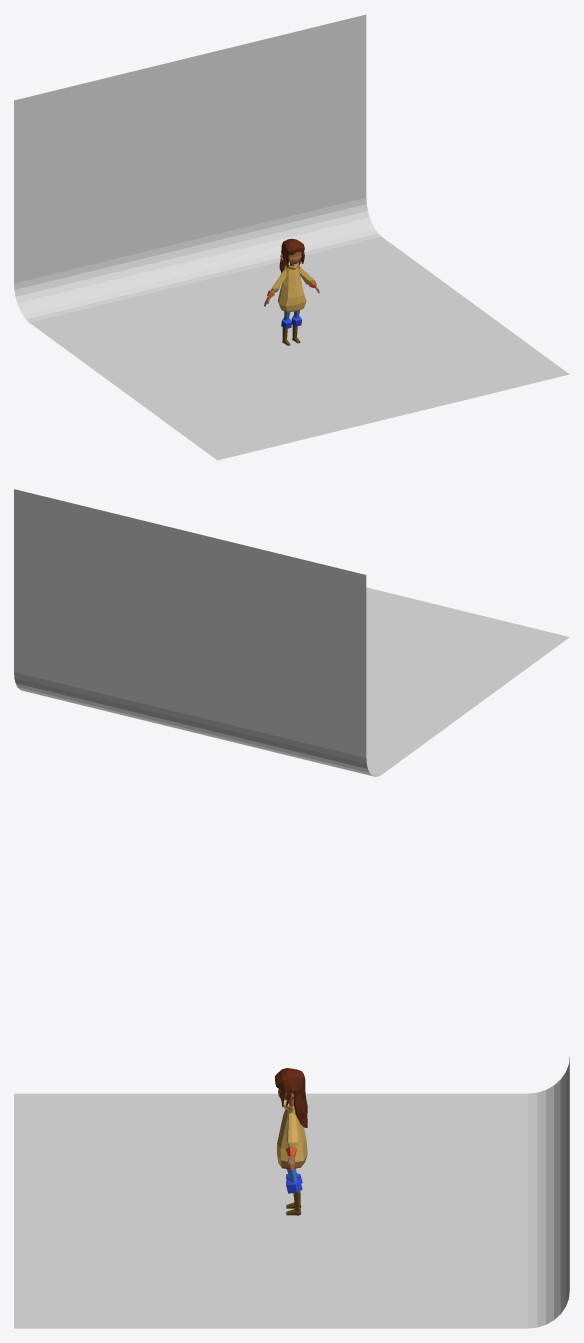
The model's file is Girl_LowPoly.fbx.
The picture shows the model from 3 angles, top to bottom: view 1: azimuth 30°, elevation 25°; view 2: azimuth 150°, elevation 25°; view 3: azimuth 270°, elevation 25°; orthographic projection. The views are drawn at different scales.
Visible parts, largest first — view 1: Plane, Cube; view 2: Plane; view 3: Plane, Cube.003, Cube.
Part boxes in pixels (x1=…): Plane: x1=14, y1=14, x2=569, y2=460; Cube: x1=277, y1=262, x2=306, y2=312; Plane: x1=14, y1=489, x2=569, y2=776; Plane: x1=14, y1=1057, x2=569, y2=1328; Cube.003: x1=275, y1=1068, x2=307, y2=1127; Cube: x1=277, y1=1100, x2=307, y2=1169.
Size of the model in its own units: 1351 by 773 by 1351.
